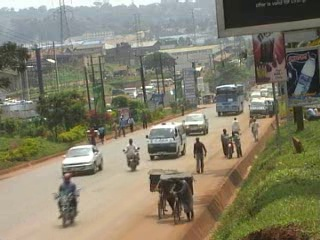Car: (60, 144, 106, 178), (181, 108, 211, 136)
Motorcycle: (53, 176, 82, 225), (121, 140, 142, 170), (222, 135, 235, 158)
